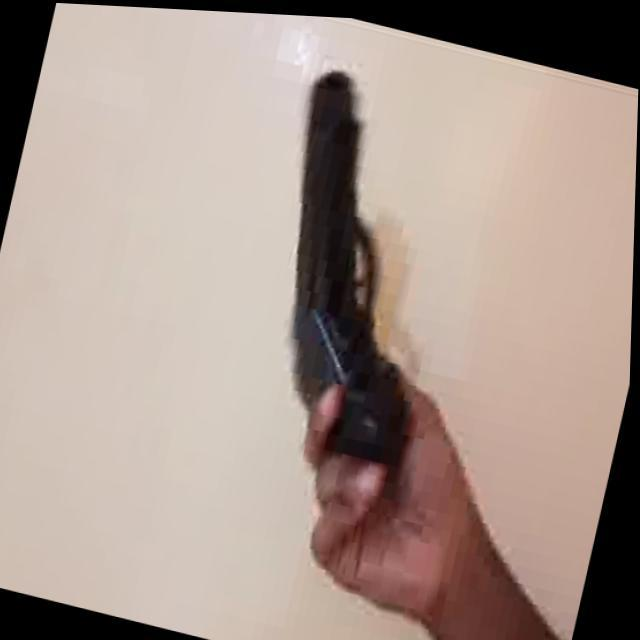weapon: (230, 54, 492, 498)
